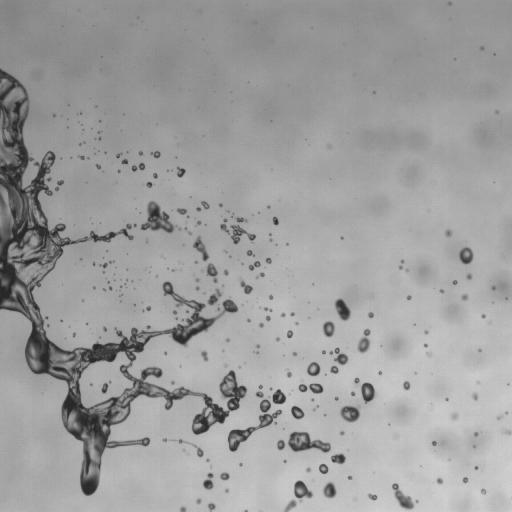droplet: (141, 200, 180, 233), (283, 480, 313, 511), (220, 217, 255, 243), (334, 298, 350, 321), (340, 405, 360, 422), (329, 348, 348, 365), (459, 247, 473, 264), (205, 263, 217, 282), (322, 482, 336, 498), (239, 279, 252, 294), (322, 321, 334, 337), (307, 362, 320, 376), (291, 406, 304, 419), (203, 473, 213, 489), (331, 453, 345, 464), (176, 167, 185, 177), (200, 350, 208, 361), (319, 464, 328, 473), (220, 472, 229, 480), (201, 201, 209, 209), (330, 365, 338, 373), (151, 151, 160, 158), (403, 381, 410, 390), (368, 493, 377, 500), (208, 502, 215, 511), (176, 208, 186, 214), (451, 412, 458, 420), (502, 429, 511, 435), (461, 293, 468, 300), (436, 477, 443, 484), (287, 330, 293, 338), (445, 230, 452, 236), (247, 250, 254, 256), (273, 217, 278, 225), (286, 369, 291, 377), (472, 393, 477, 401), (146, 182, 153, 187), (101, 263, 108, 268), (257, 272, 264, 277), (121, 159, 127, 164), (466, 273, 471, 279), (265, 315, 270, 321), (462, 477, 468, 482), (481, 488, 486, 494), (180, 506, 186, 511), (116, 152, 121, 157), (196, 220, 201, 225), (266, 258, 271, 263), (368, 312, 373, 317), (306, 467, 311, 472), (196, 498, 201, 503), (496, 415, 502, 419), (138, 151, 143, 155), (96, 164, 100, 169), (153, 173, 157, 178), (224, 270, 228, 275), (281, 312, 285, 317), (259, 322, 263, 327), (292, 352, 297, 356), (426, 352, 431, 356), (351, 391, 355, 396), (339, 431, 344, 435), (432, 441, 437, 445), (327, 144, 331, 148), (196, 207, 200, 211), (453, 280, 457, 284), (195, 286, 199, 290), (407, 295, 411, 299), (146, 306, 150, 310), (173, 310, 177, 314), (290, 312, 294, 316), (481, 314, 485, 318), (424, 330, 428, 334), (275, 337, 279, 341), (256, 344, 260, 348), (474, 432, 478, 436), (348, 475, 352, 479), (79, 156, 84, 159), (163, 438, 168, 441), (196, 278, 199, 282), (440, 289, 443, 293), (269, 295, 272, 299), (102, 327, 106, 330), (226, 338, 229, 342), (335, 396, 338, 400), (480, 46, 483, 49), (495, 110, 498, 113), (219, 203, 222, 206), (492, 286, 495, 289), (72, 333, 75, 336), (424, 344, 427, 347), (322, 350, 325, 353), (378, 371, 381, 374), (171, 381, 174, 384), (504, 411, 507, 414), (475, 466, 478, 469), (117, 170, 120, 172), (109, 287, 112, 289), (186, 310, 188, 313), (175, 317, 177, 320), (247, 319, 250, 321), (294, 322, 297, 324), (311, 398, 313, 401), (445, 398, 448, 400), (206, 459, 209, 461), (225, 489, 228, 491), (98, 137, 100, 139), (267, 206, 269, 208), (195, 261, 197, 263), (406, 269, 408, 271), (164, 352, 166, 354), (224, 364, 226, 366), (90, 383, 92, 385), (316, 405, 318, 407), (313, 408, 315, 410), (240, 463, 242, 465)
ligament: (0, 68, 239, 495), (227, 386, 286, 451), (276, 431, 330, 452), (392, 483, 418, 509), (353, 378, 376, 403), (193, 235, 209, 261), (357, 328, 370, 353), (298, 383, 323, 394), (192, 444, 203, 457), (101, 381, 110, 393), (131, 163, 144, 171), (249, 261, 260, 270), (55, 180, 63, 190), (399, 259, 404, 269), (263, 307, 272, 312), (178, 439, 188, 443), (185, 228, 191, 234), (244, 510, 247, 511)
